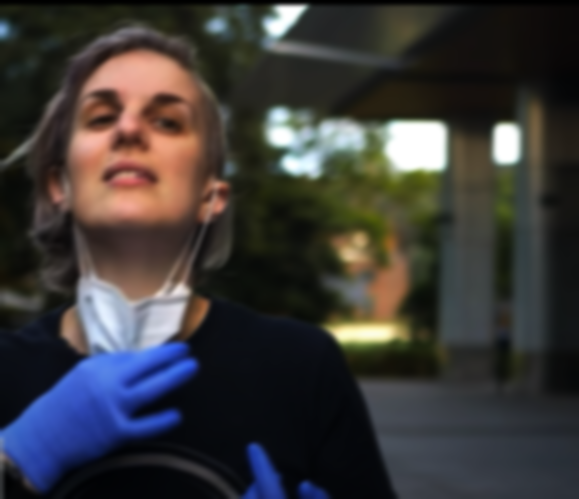mask_weared_incorrect: (23, 19, 229, 348)
